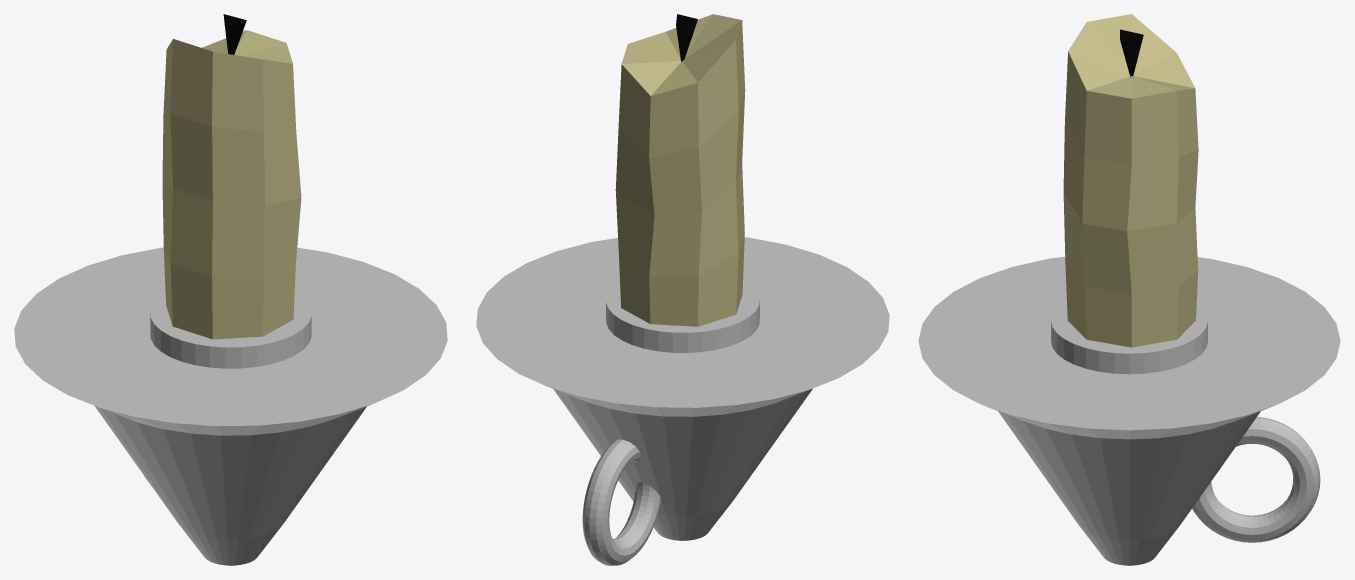
The model's file is Candle.fbx.
3 renders of one model, left to right at view 1: azimuth 30°, elevation 25°; view 2: azimuth 150°, elevation 25°; view 3: azimuth 270°, elevation 25°, orthographic. The views are drawn at different scales.
Parts seen in each view (by area): view 1: Holder, Candle, Cone; view 2: Holder, Candle, Handle, Cone; view 3: Holder, Candle, Handle, Cone.
Boxes of the visible parts, box(x1,y1,x2,y2) form: Holder: box(14, 247, 447, 565); Candle: box(162, 30, 301, 339); Cone: box(223, 14, 246, 54); Holder: box(476, 237, 889, 540); Candle: box(615, 14, 745, 326); Handle: box(582, 439, 660, 565); Cone: box(676, 14, 697, 61); Holder: box(918, 256, 1340, 565); Candle: box(1063, 14, 1198, 347); Handle: box(1192, 417, 1320, 542); Cone: box(1120, 29, 1143, 76).
Bounding box in the file's own units: 18.57 × 25.79 × 18.57.
